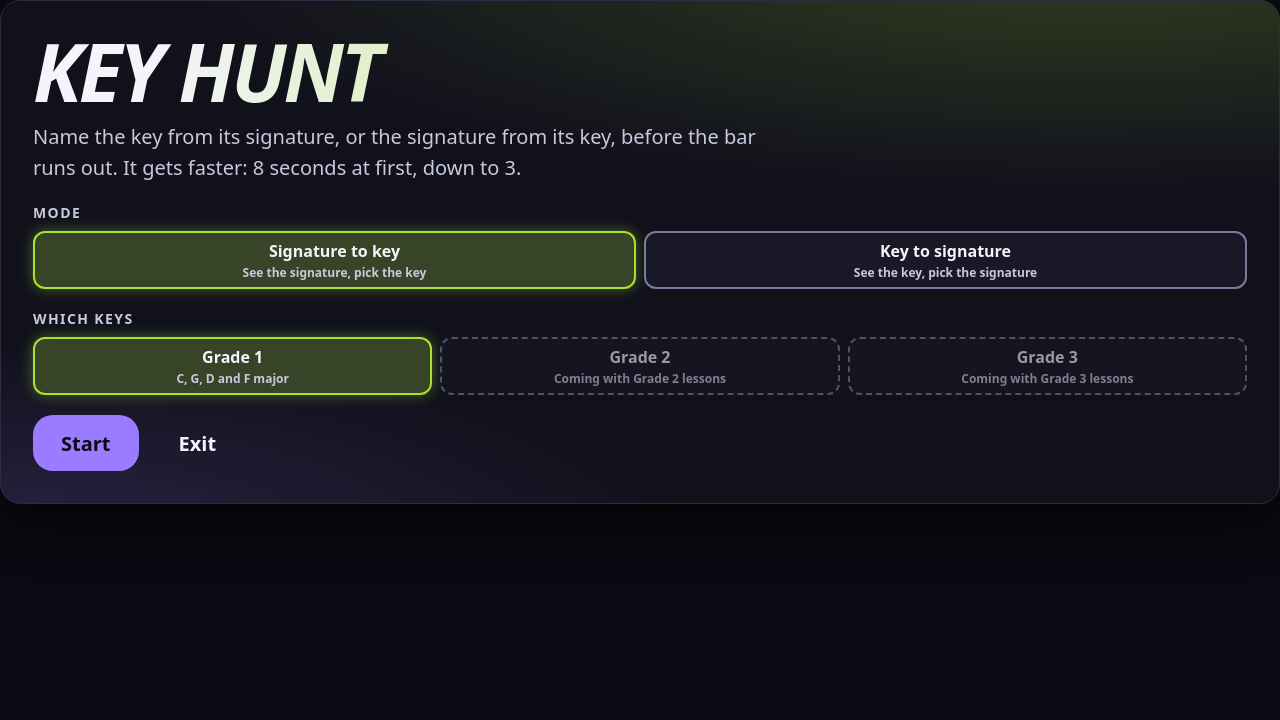
Test: timed round with a stubbed animation frame › ends when the round clock runs out, with results
What coordinates should you click on to do the following:
click the button "Start"
I would click on:
 (86, 443)
Its box is [33,415,138,471].
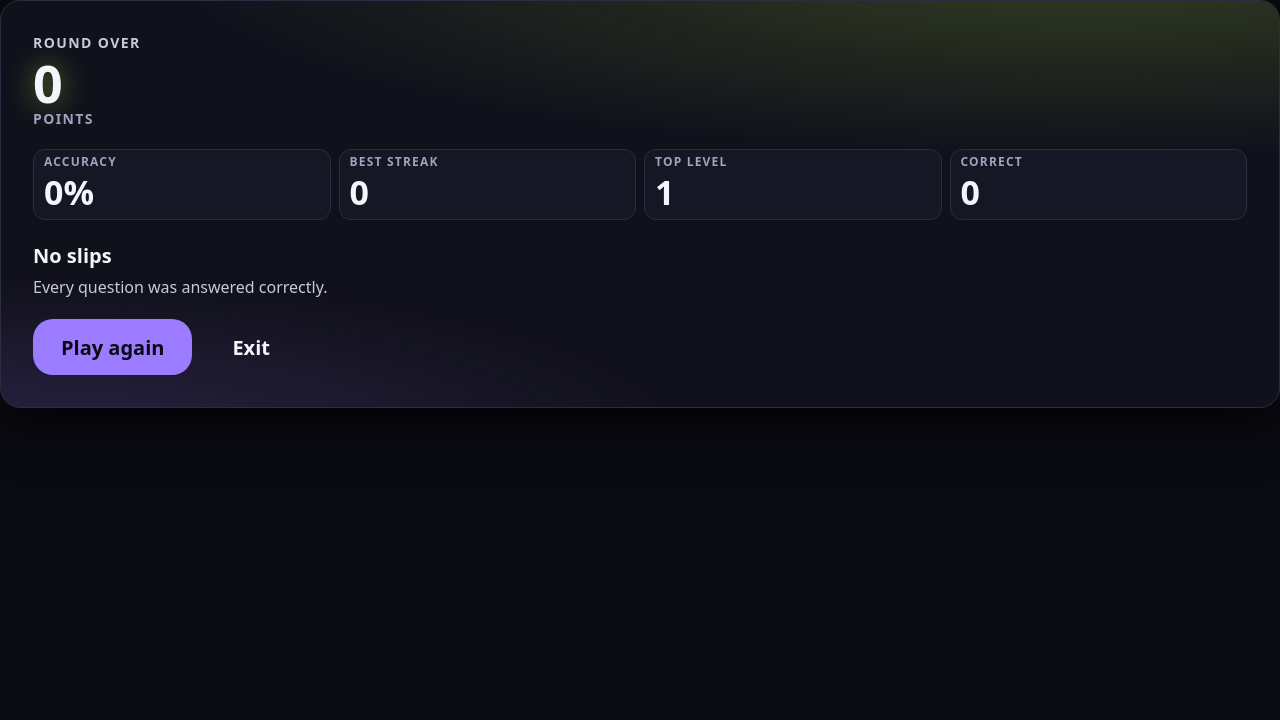
Now the text with test id "kh-final-score" reads "0", box [33,47,61,118]
